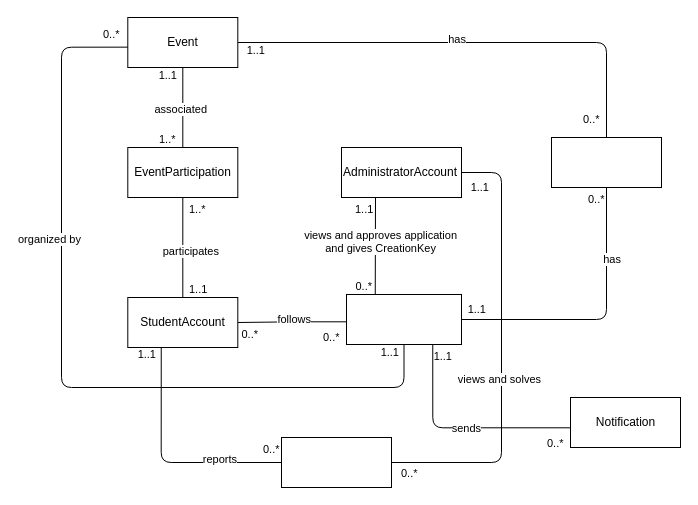
Image size: 698x505. Some labels were removed from this diagram. The box of each missing label's shape, as (x1, y1, x2, y2) in pixels:
CommunityAccount: (346, 294, 462, 344)
Image: (550, 136, 662, 188)
Report: (280, 436, 392, 488)
